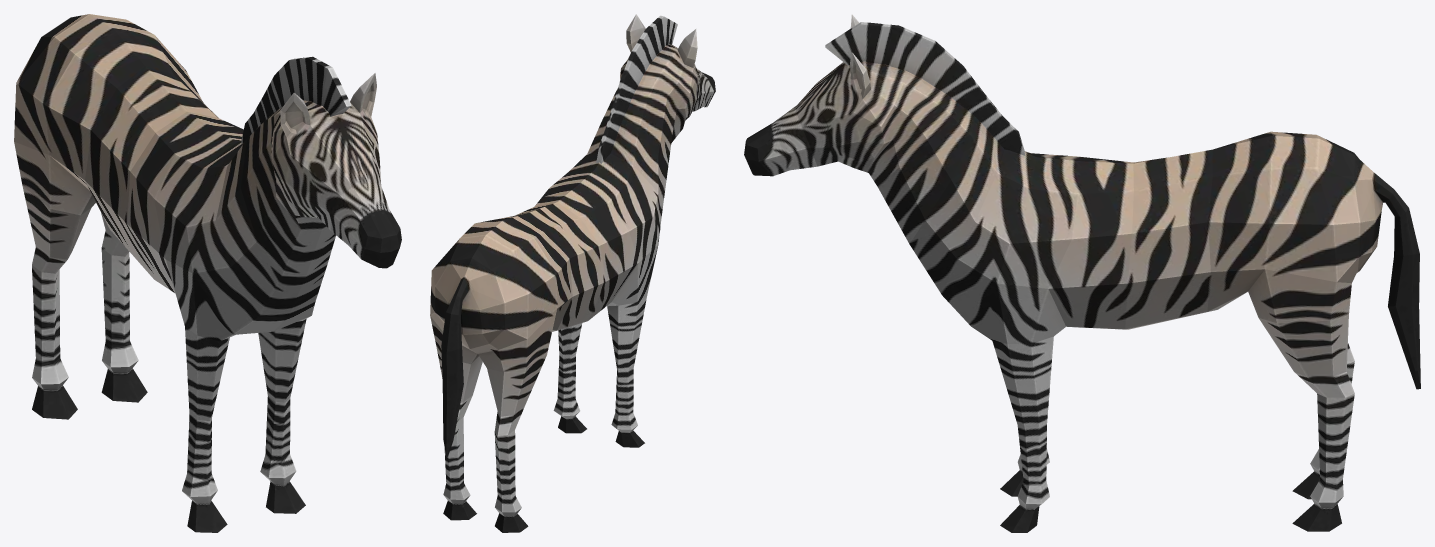
Rendered from zebra.glb.
3 renders of one model, left to right at view 1: azimuth 30°, elevation 25°; view 2: azimuth 150°, elevation 25°; view 3: azimuth 270°, elevation 25°, orthographic. The views are drawn at different scales.
Visible parts, largest first — view 1: Zebra_mesh; view 2: Zebra_mesh; view 3: Zebra_mesh.
Boxes of the visible parts, x1,y1,x2,y2 form: Zebra_mesh: (14, 14, 401, 532); Zebra_mesh: (430, 14, 715, 532); Zebra_mesh: (744, 14, 1420, 532).
Size of the model in its own units: 3.49 by 12 by 15.2.
1 material, 1 textured.
